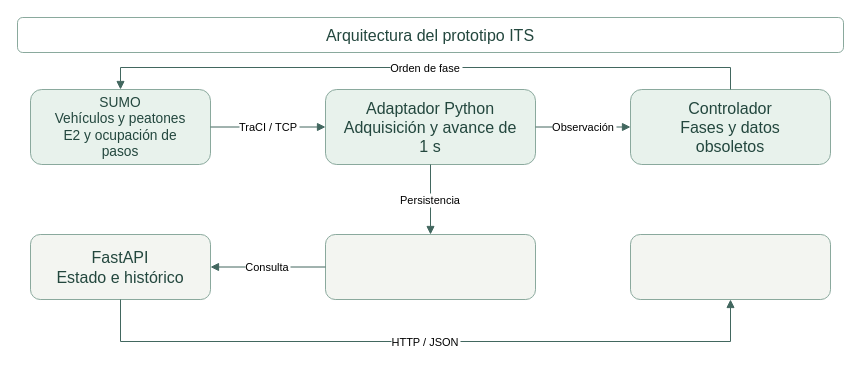
Some shapes in this 861 by 367 pixel diagram are drawn without their labels. Each missing label, with the centre of its shape:
Navegador Animación y resultados: (x=730, y=267)
SQLite Ejecuciones y muestras: (x=430, y=267)
